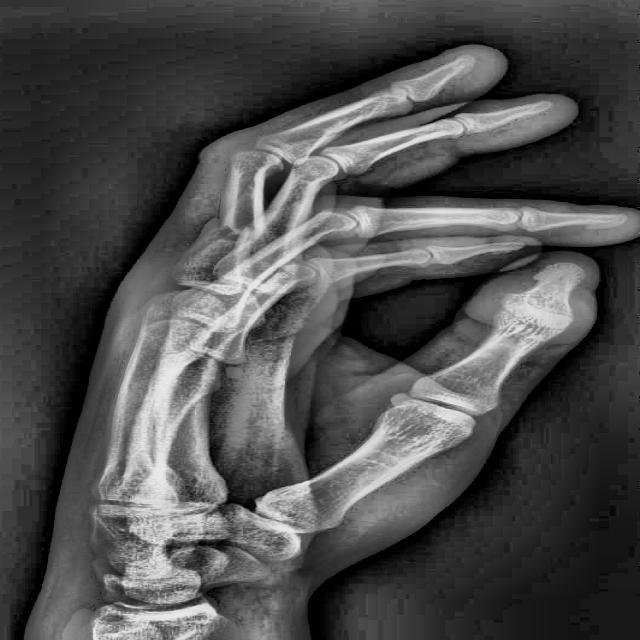fracture: (497, 292, 575, 333)
